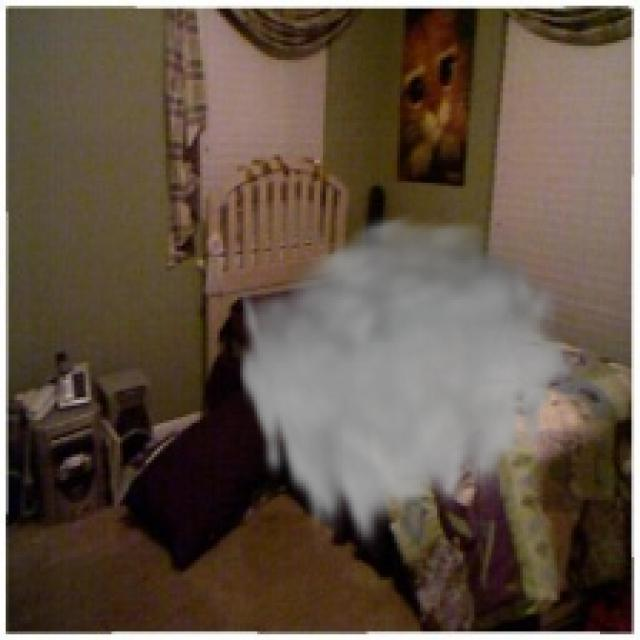Smoke: (235, 208, 580, 558)
